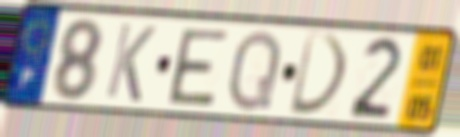2: (347, 34, 405, 123)
8: (48, 16, 106, 104)
D: (286, 29, 351, 118)
E: (166, 26, 232, 109)
K: (102, 20, 159, 106)
Q: (225, 27, 285, 115)
